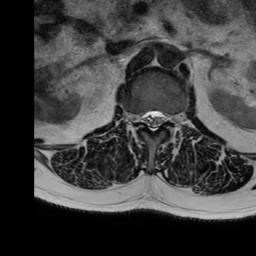CCS_normal: (150, 105, 157, 138)
LFS_normal: (165, 110, 173, 130)
LLS_normal: (157, 107, 165, 132)
RFS_normal: (133, 108, 142, 130)
RLS_normal: (141, 107, 150, 132)
